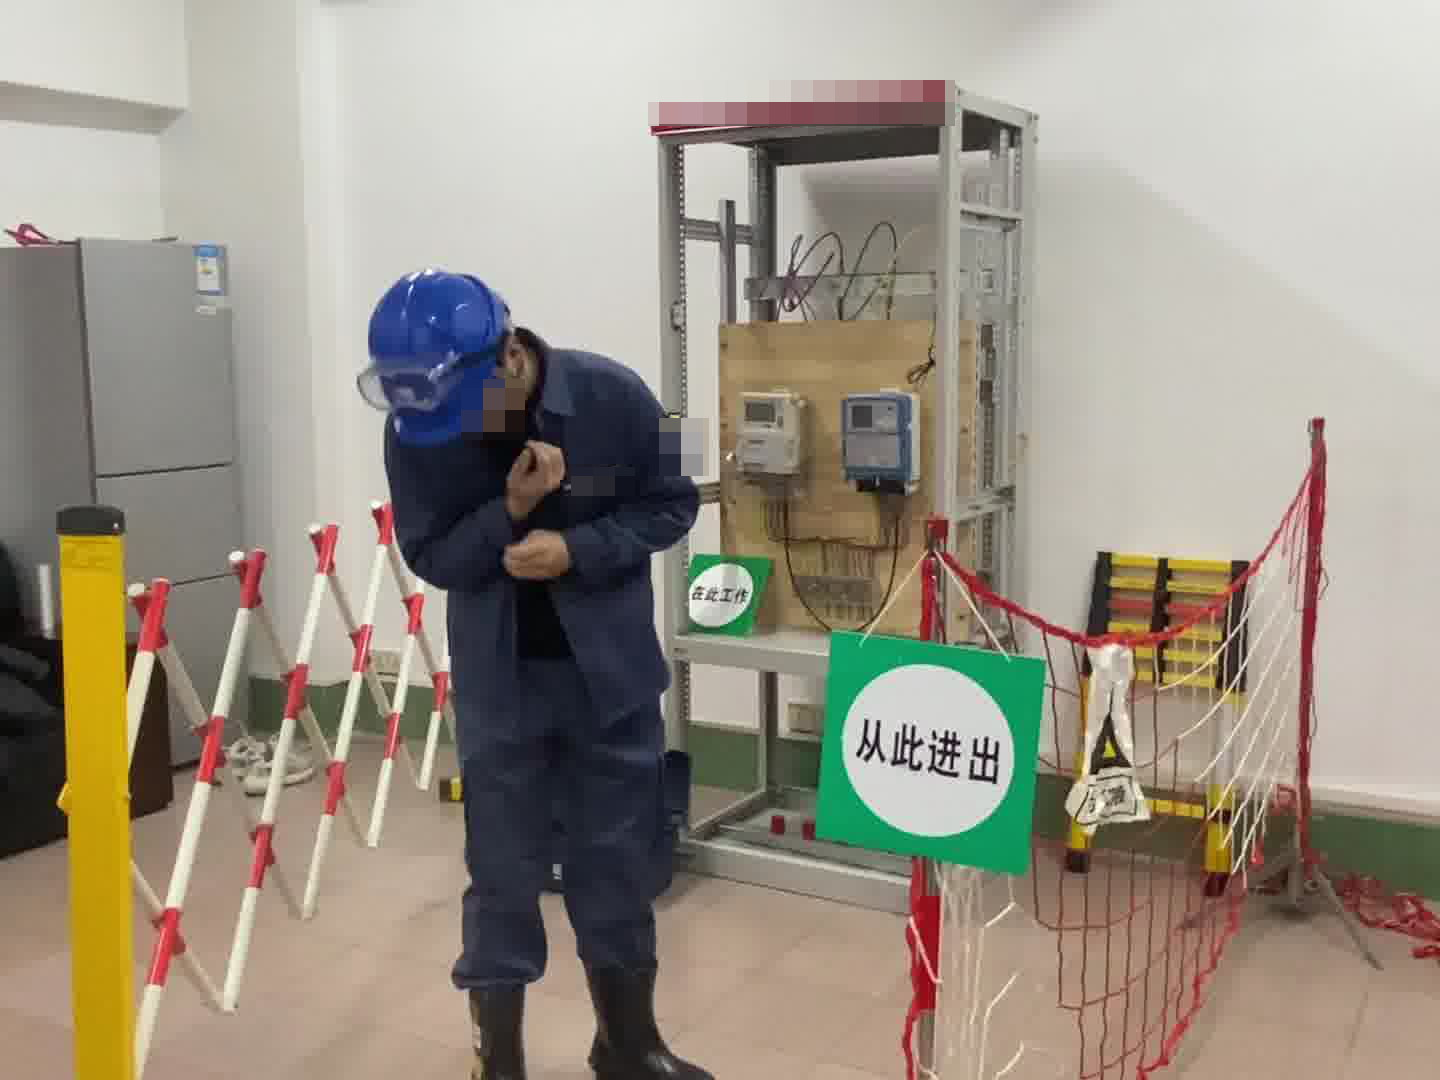downsuit: (449, 693, 681, 971)
halt: (364, 269, 516, 441)
hand: (491, 448, 569, 516), (502, 528, 568, 584)
inear: (491, 341, 537, 390)
intosign: (813, 625, 1047, 878)
person: (356, 262, 723, 1080)
shoe: (461, 965, 709, 1080)
sleeve: (655, 415, 700, 463)
upsuit: (357, 338, 703, 678)
worksign: (690, 554, 754, 635)
wrongsuit: (486, 446, 601, 713)
